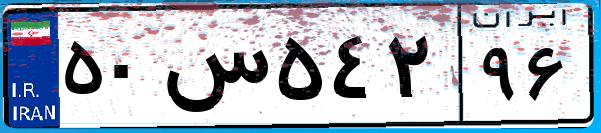0: (110, 28, 158, 98)
2: (385, 28, 445, 110)
4: (330, 28, 385, 110)
5: (270, 28, 330, 110), (57, 26, 110, 100)
6: (525, 38, 570, 115)
9: (475, 38, 525, 113)
س: (158, 20, 270, 120)
